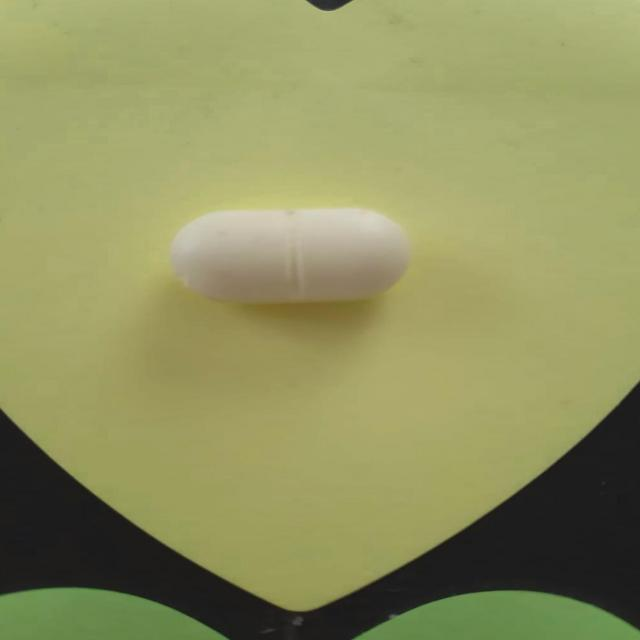pill: (154, 200, 430, 309)
